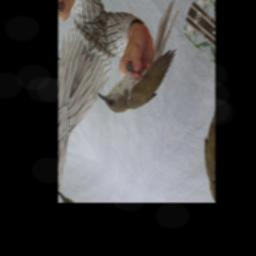Cuckoo: (95, 0, 190, 138)
